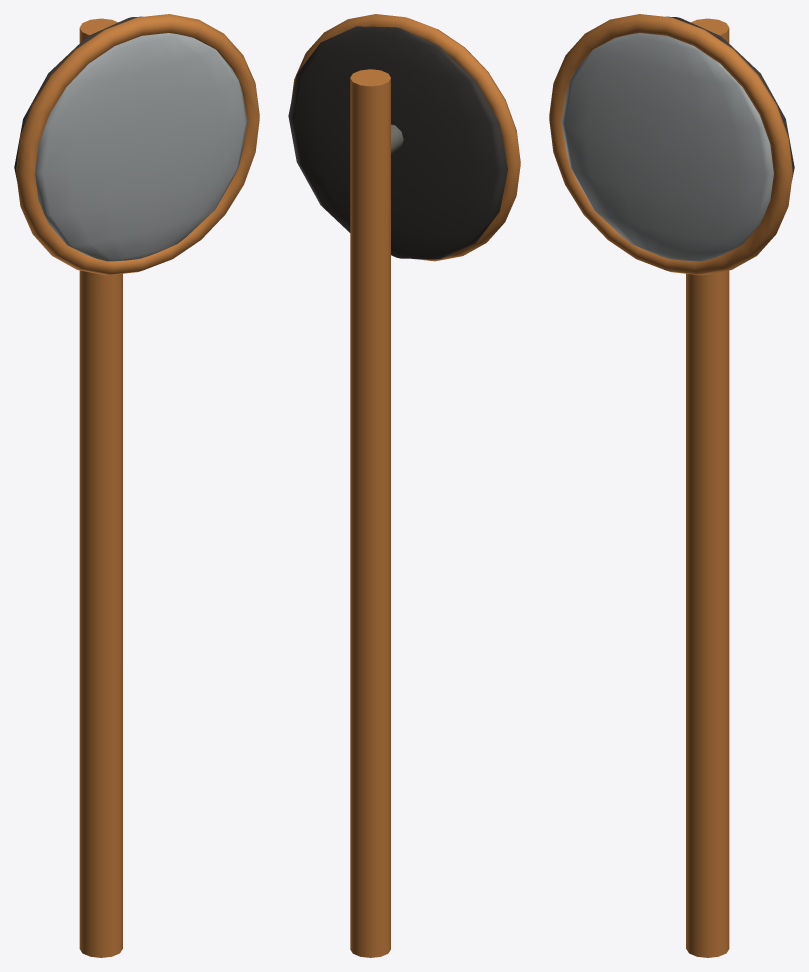
Rendered from MS_SP_04_ConvexTrafficMirror.glb.
The picture shows the model from 3 angles, left to right: view 1: azimuth 30°, elevation 25°; view 2: azimuth 150°, elevation 25°; view 3: azimuth 330°, elevation 25°; orthographic projection. The views are drawn at different scales.
Parts seen in each view (by area): view 1: OrangeRim, ConvexMirror; view 2: OrangeRim, MirrorBack; view 3: OrangeRim, ConvexMirror.
Boxes of the visible parts, x1,y1,x2,y2 form: OrangeRim: (16, 14, 259, 957); ConvexMirror: (35, 33, 247, 261); OrangeRim: (291, 14, 520, 957); MirrorBack: (288, 26, 507, 259); OrangeRim: (549, 14, 792, 957); ConvexMirror: (561, 33, 773, 261).
Bounding box in the file's own units: 0.65 × 2.44 × 0.275.
